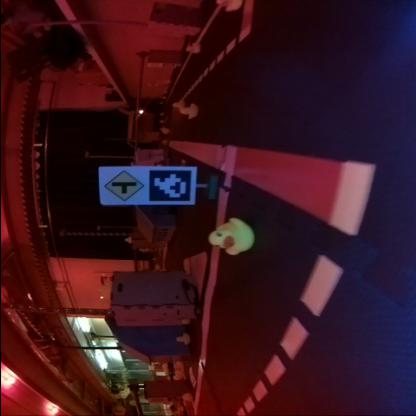Duckie: (207, 219, 252, 254), (178, 104, 196, 118), (174, 333, 188, 344), (186, 42, 198, 52)
Intersection sign: (103, 170, 141, 198)
QR code: (147, 170, 189, 200)
